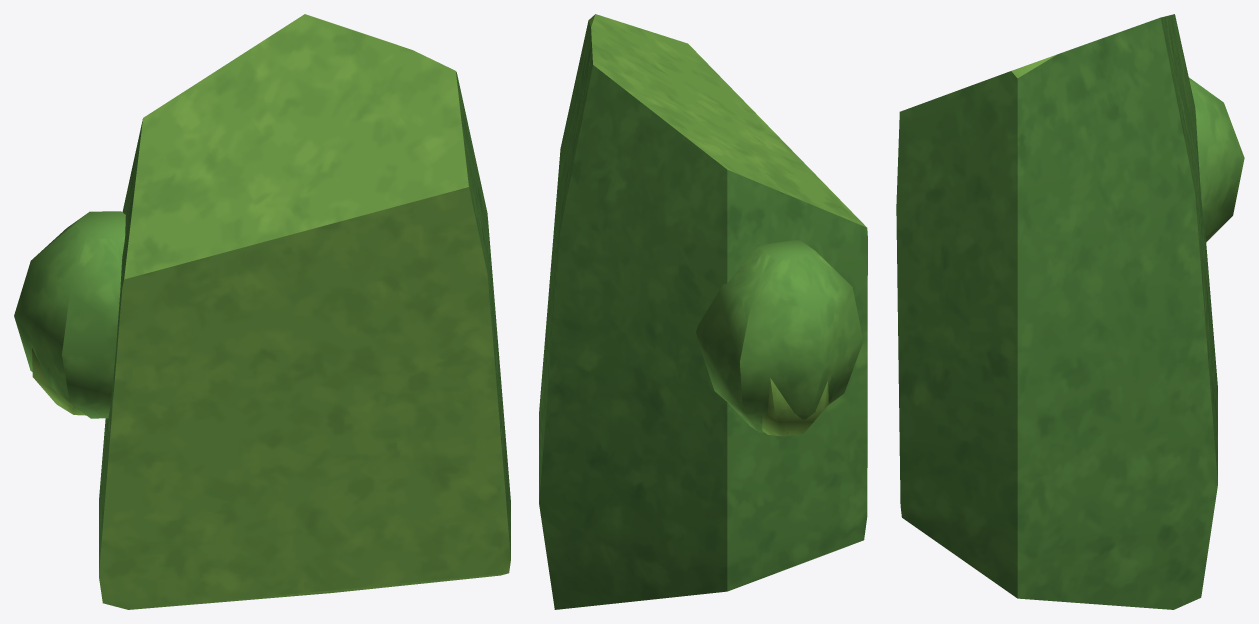
File: cypress_s07.fbx
3 views of the same model, side by side, from view 1: azimuth 30°, elevation 25°; view 2: azimuth 150°, elevation 25°; view 3: azimuth 270°, elevation 25° (orthographic). The views are drawn at different scales.
Parts seen in each view (by area): view 1: cypress_s07; view 2: cypress_s07; view 3: cypress_s07.
Boxes of the visible parts, x1,y1,x2,y2 form: cypress_s07: (14, 14, 510, 609); cypress_s07: (539, 14, 867, 609); cypress_s07: (896, 14, 1244, 609).
Bounding box in the file's own units: 4.31 × 6.04 × 3.31.
